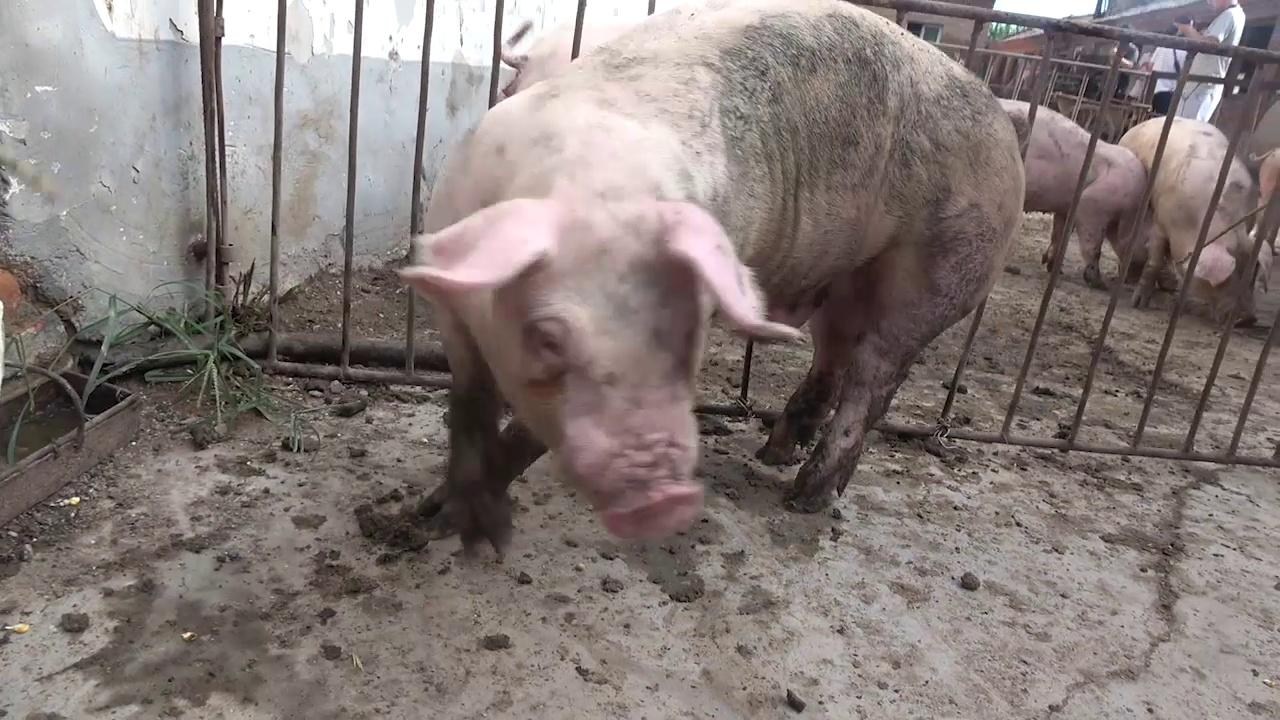Face: (392, 187, 817, 557)
